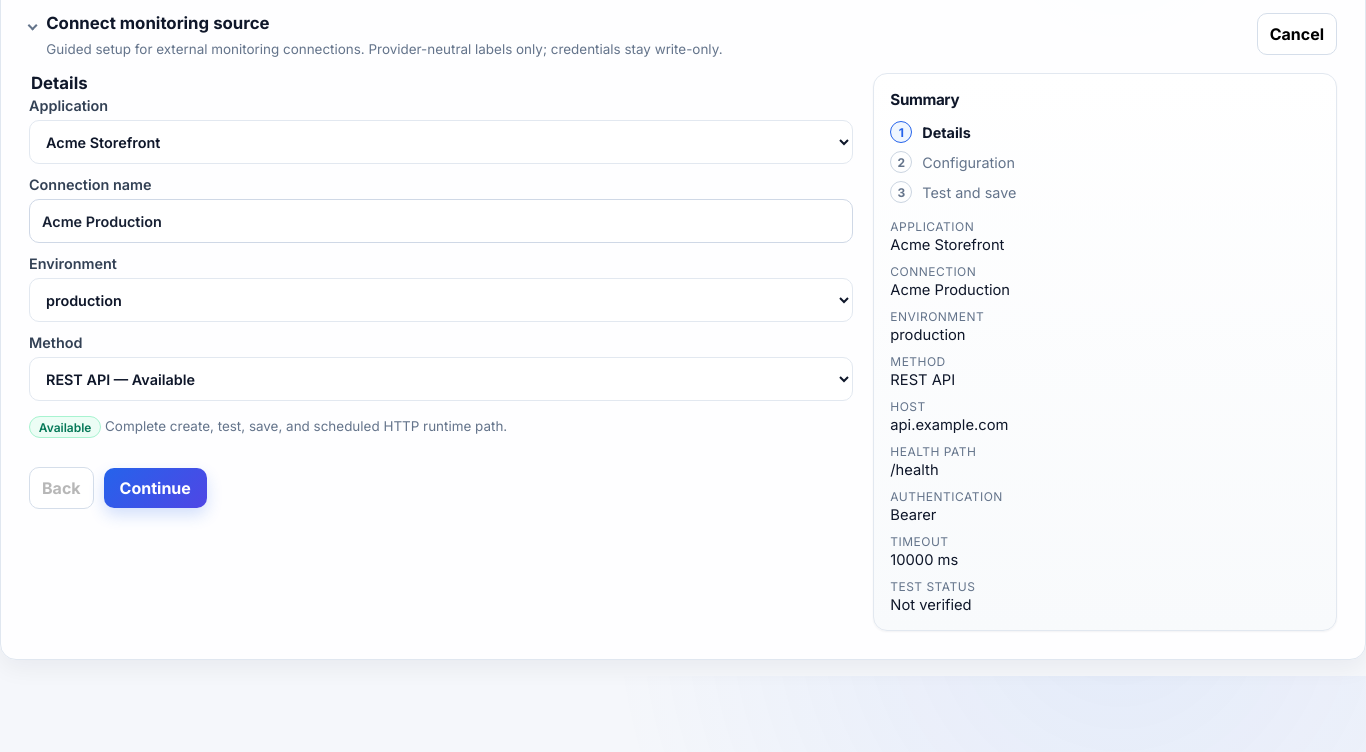
Test case: ConnectionWizard › never enables monitor-save on a failed test result
Click the button "Continue" at (155, 488), box [104,468,207,508]
(page scrolled)
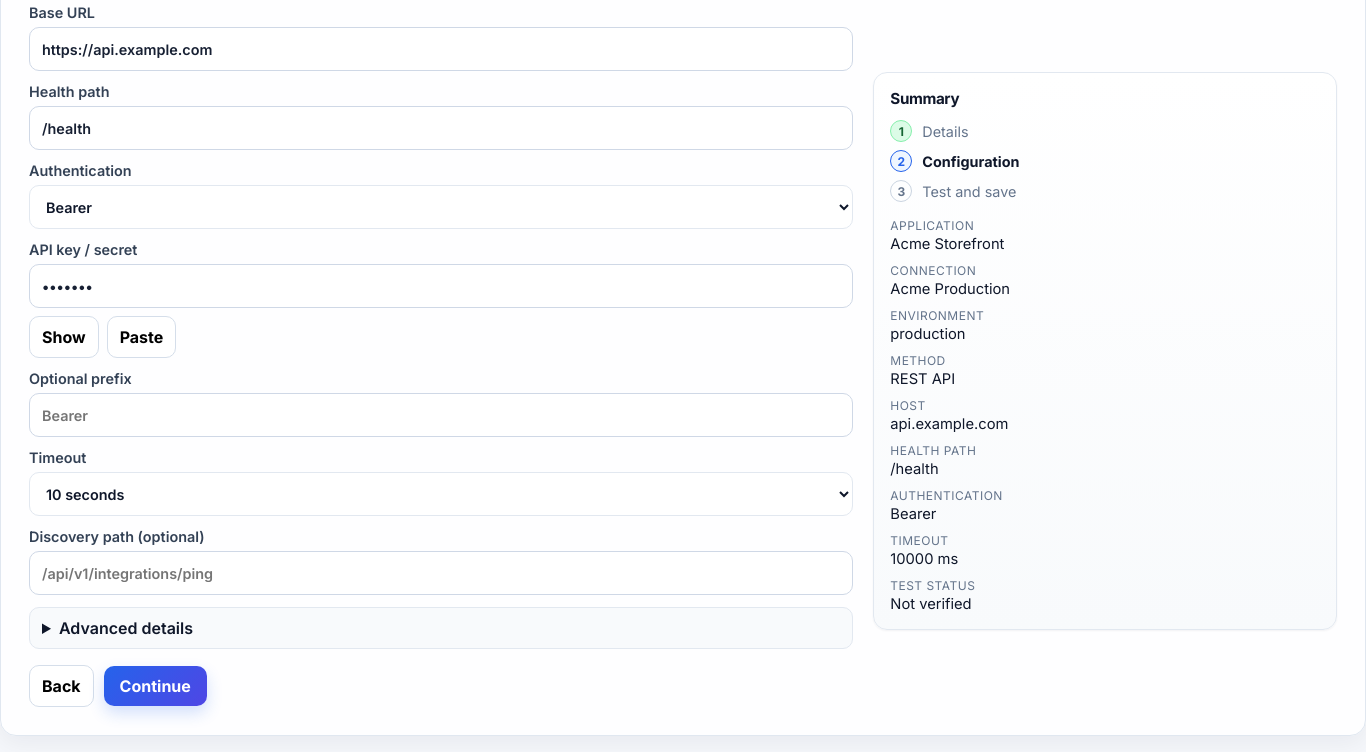
Click the button "Continue" at (155, 686), box [104,666,207,706]
(page scrolled)
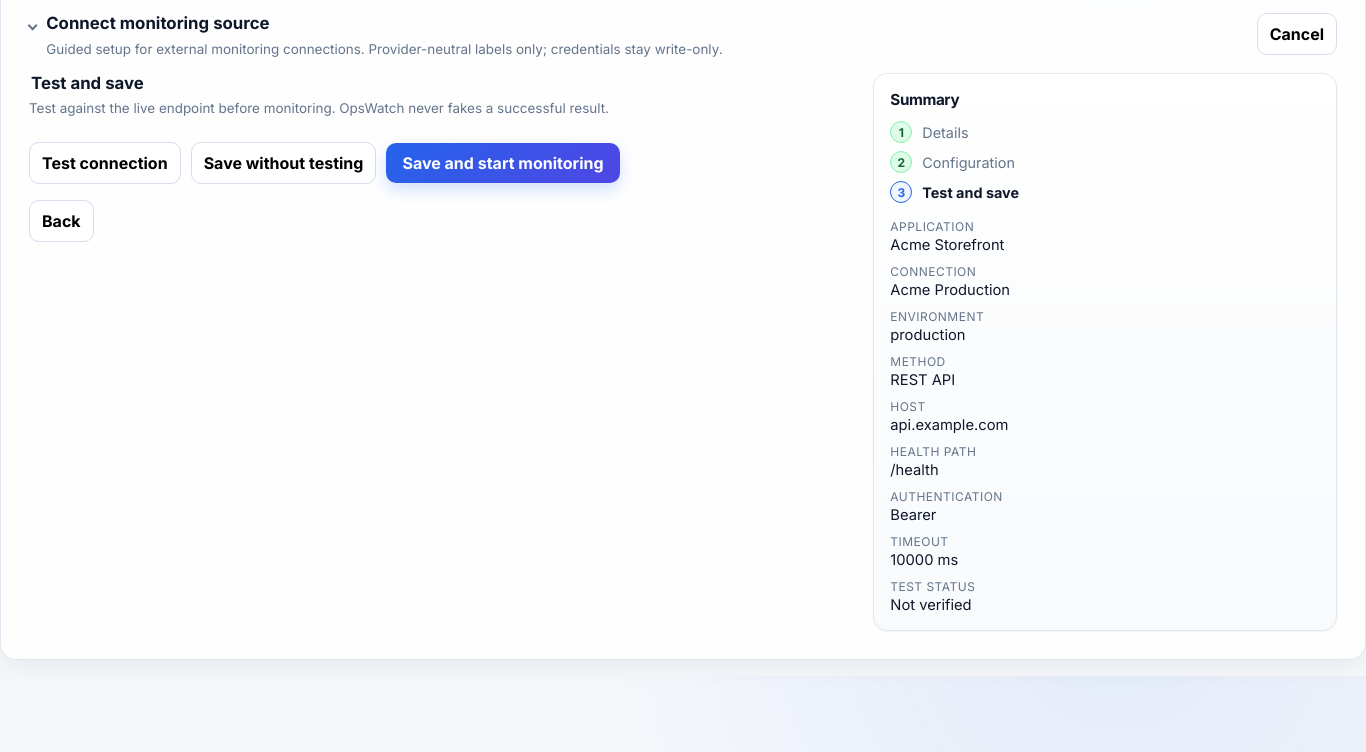
Click the button with test id "connection-test-button" at (105, 163), box [29,142,181,184]
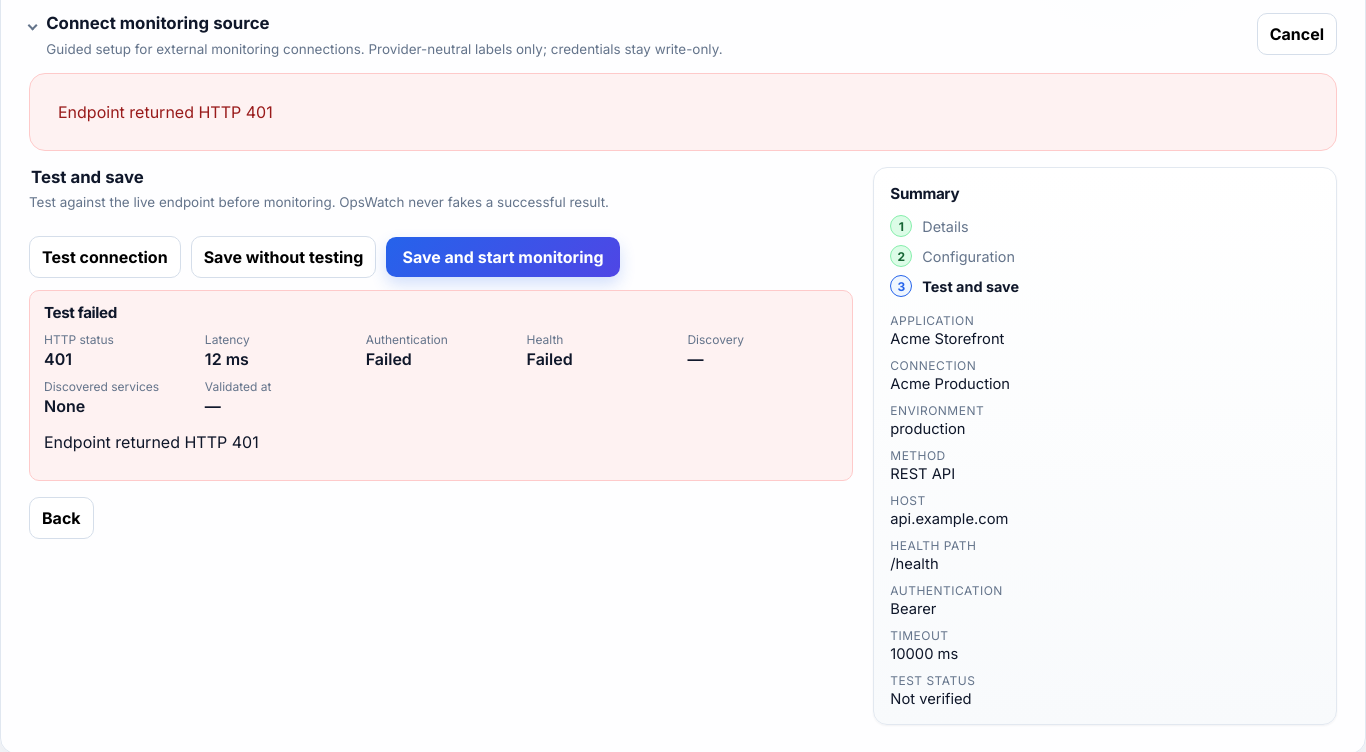
Result: the button with test id "connection-save-monitor-button" is disabled at [386,237,620,277]
Result: the message with test id "connection-test-result" is shown at [29,290,853,481]
Result: the heading "Test failed" is shown at [44,303,117,322]
